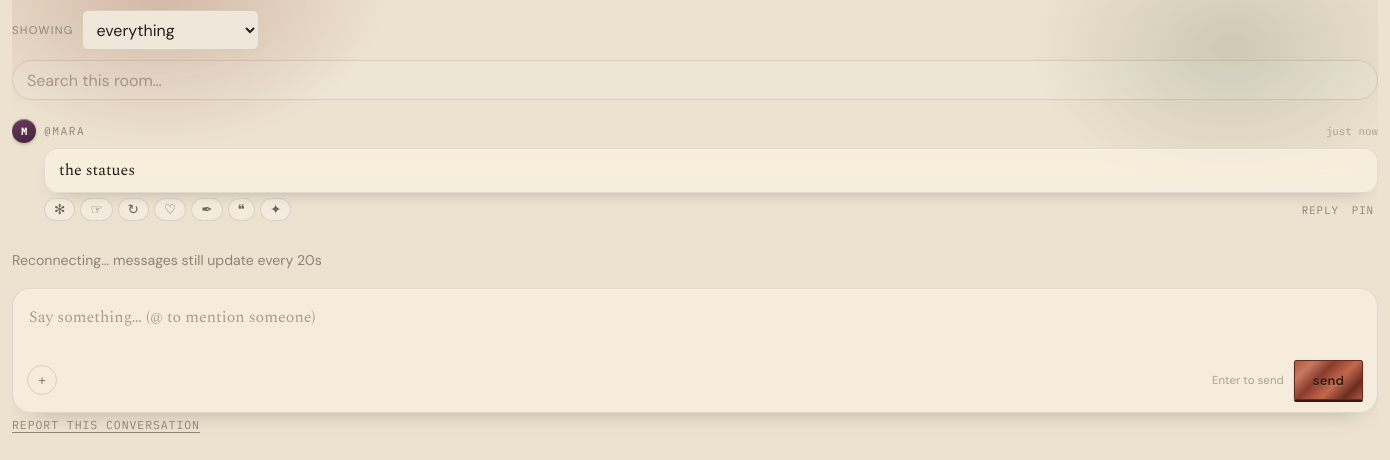
Scenario: CollectionChat — one room per collection [#6] › closes the tools menu on outside click or Escape, without picking anything
Click the button named "more options": (42, 380) 27,365 -> 57,395
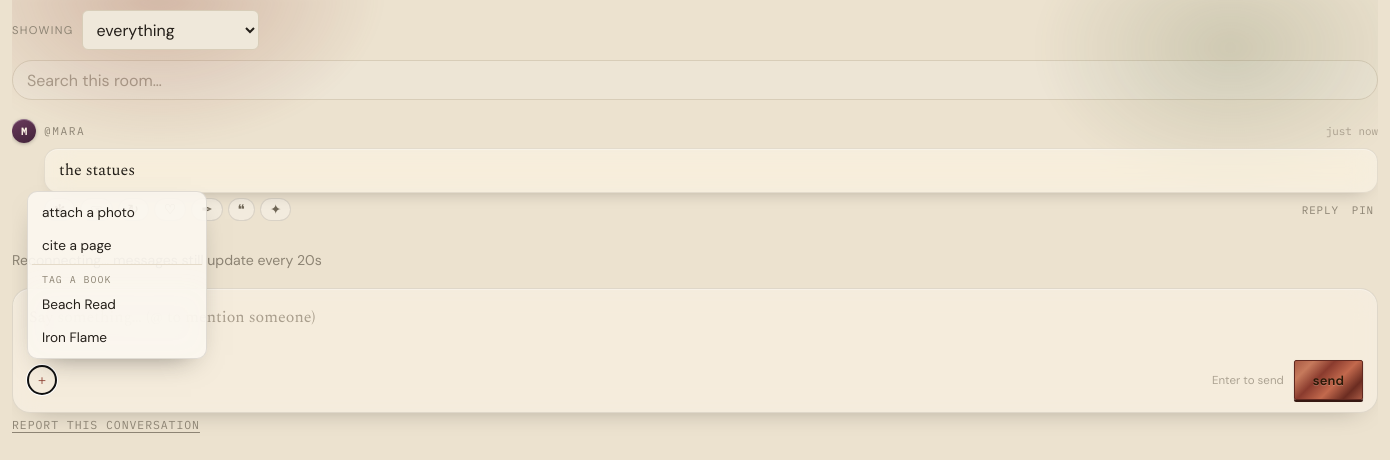
Expected: the button "attach a photo" is shown, 32,196 -> 202,229
Click the element that starts with "Showing": (695, 222) 12,0 -> 1378,444
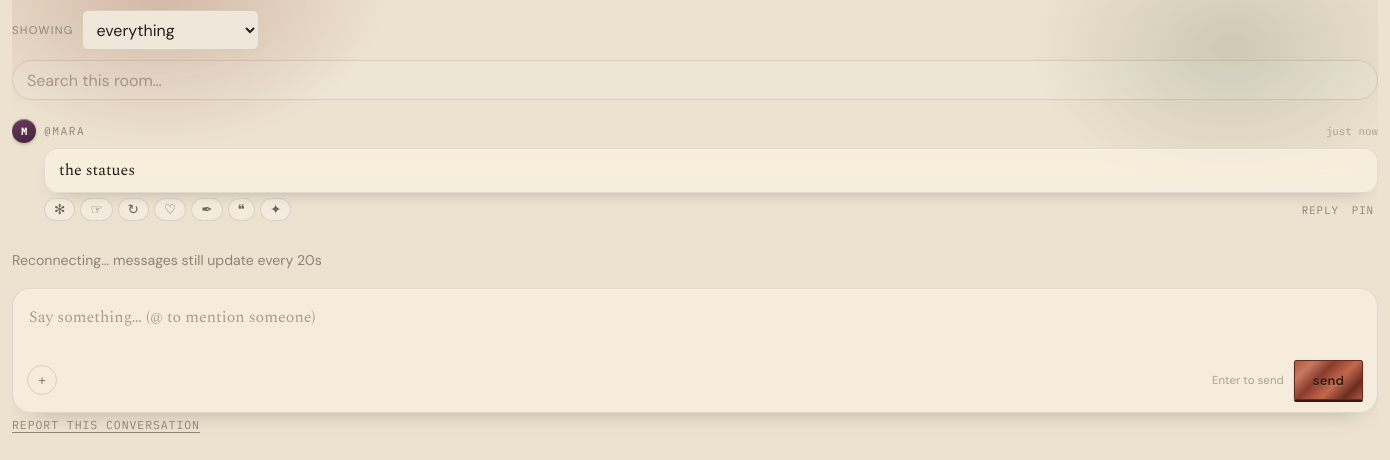
Expected: the button "attach a photo" is gone
Click the button named "more options": (42, 380) 27,365 -> 57,395
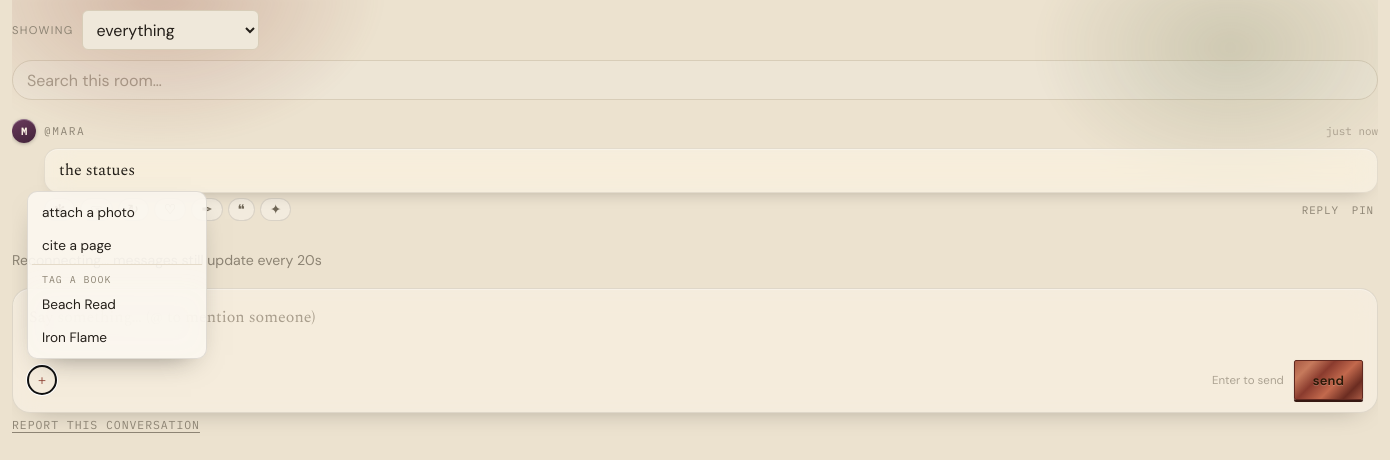
Press Escape
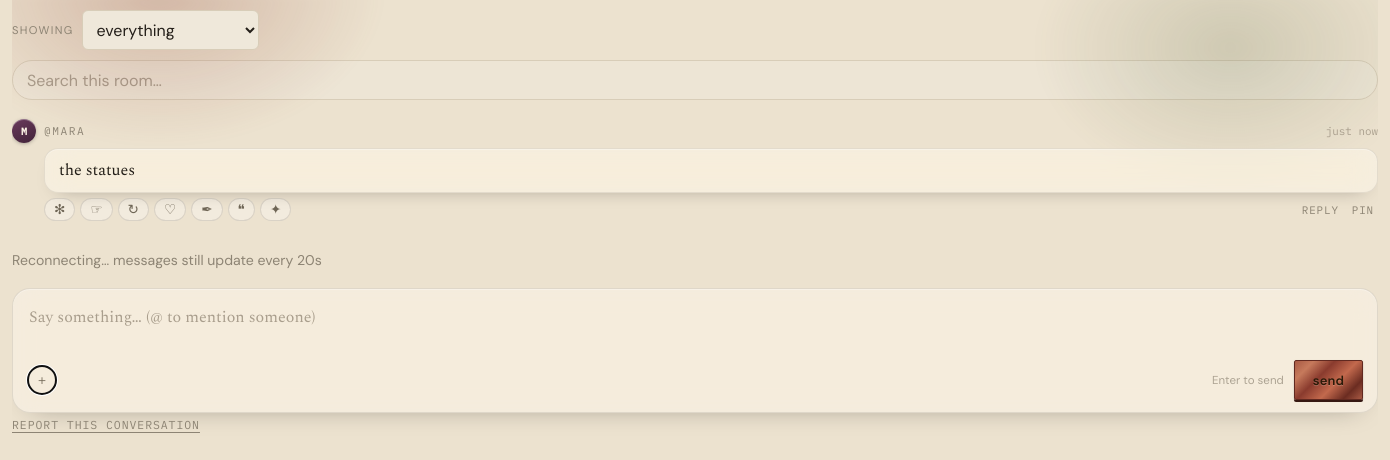
Expected: the button "attach a photo" is gone
